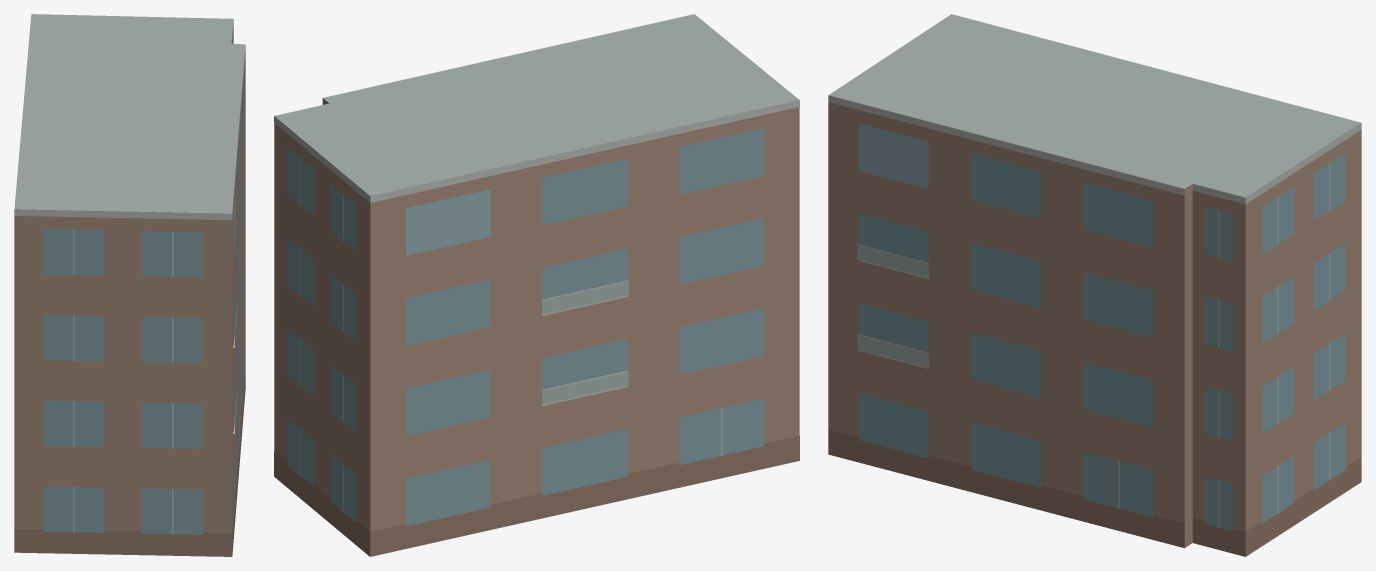
The model's file is survey-upis-32891517.glb.
The picture shows the model from 3 angles, left to right: view 1: azimuth 30°, elevation 25°; view 2: azimuth 150°, elevation 25°; view 3: azimuth 270°, elevation 25°; orthographic projection. The views are drawn at different scales.
Parts seen in each view (by area): view 1: survey-upis-32891517.tmp; view 2: survey-upis-32891517.tmp; view 3: survey-upis-32891517.tmp.
Boxes of the visible parts, x1,y1,x2,y2 form: survey-upis-32891517.tmp: (14, 14, 245, 556); survey-upis-32891517.tmp: (274, 14, 799, 556); survey-upis-32891517.tmp: (828, 14, 1361, 556).
Bounding box in the file's own units: 14.04 × 12.8 × 17.23.
